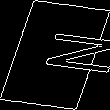N_W: (8, 30, 102, 80)
